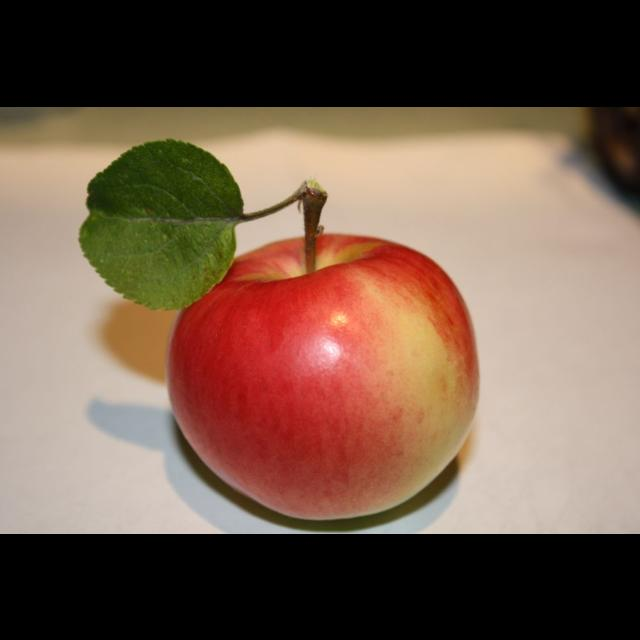Apel Segar: (96, 213, 518, 533)
